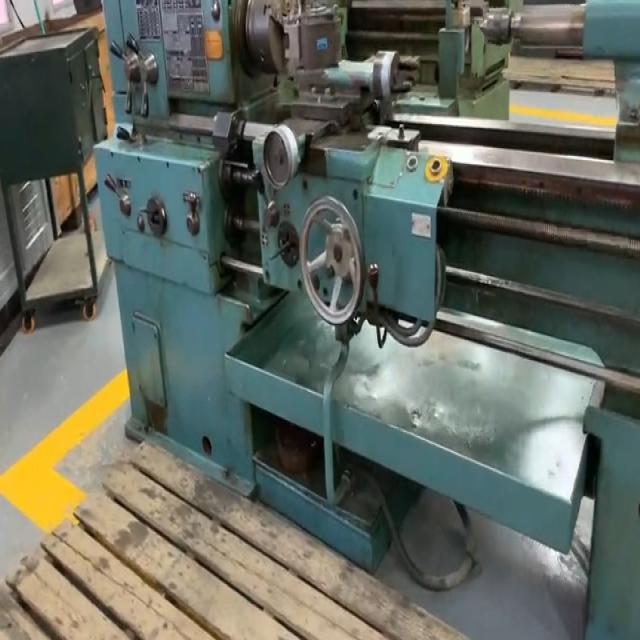tour parallele: (87, 0, 640, 640)
